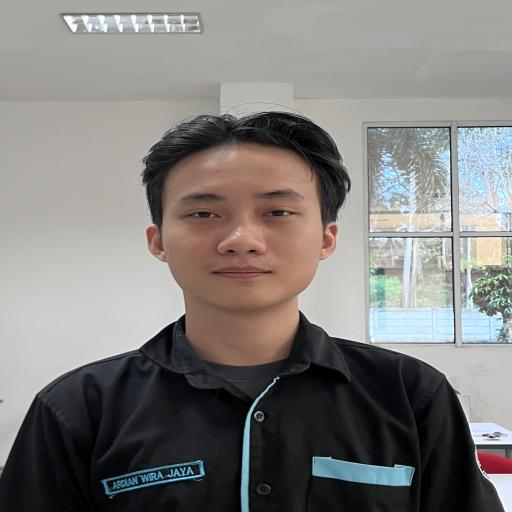wajah: (0, 54, 505, 421)
